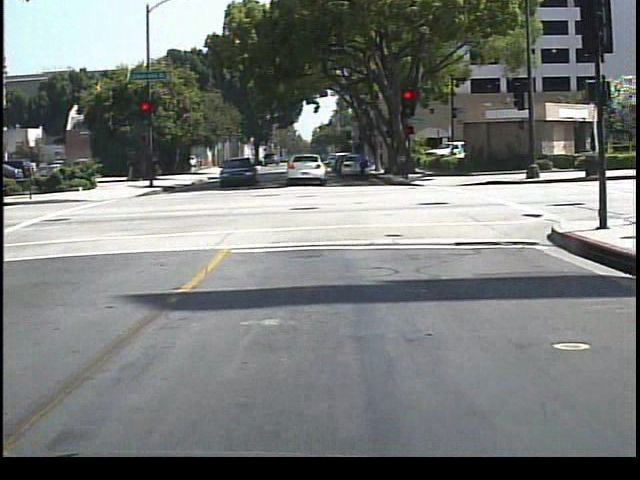person: (352, 143, 373, 185)
